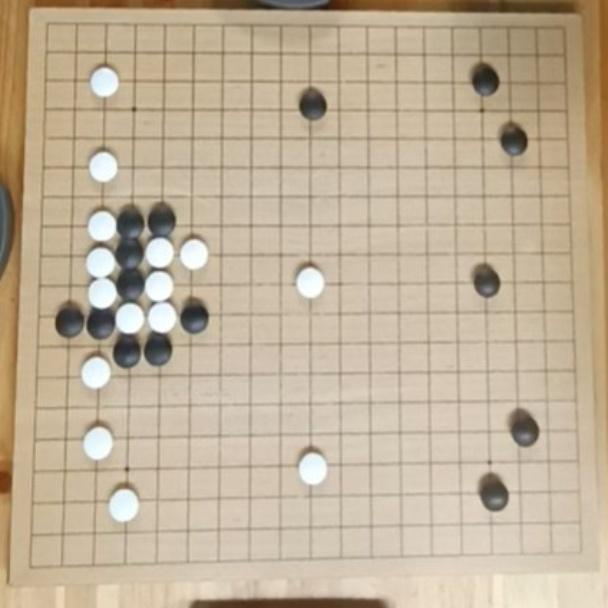corners: (556, 533, 598, 574), (31, 6, 70, 48), (16, 543, 51, 582), (548, 11, 580, 52)
